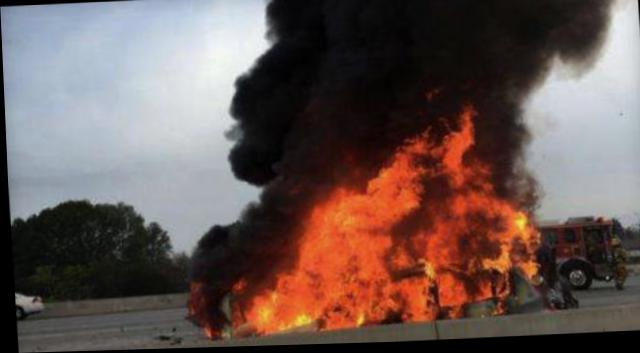fire: (198, 95, 556, 339)
